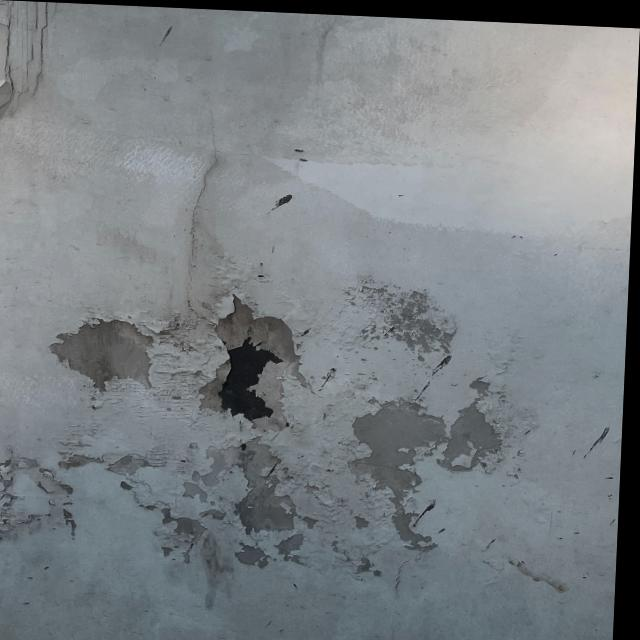crack: (178, 87, 247, 307), (0, 1, 70, 126)
spalling: (102, 282, 333, 592), (311, 371, 532, 592), (327, 274, 477, 375), (0, 440, 109, 560), (35, 309, 166, 402)
